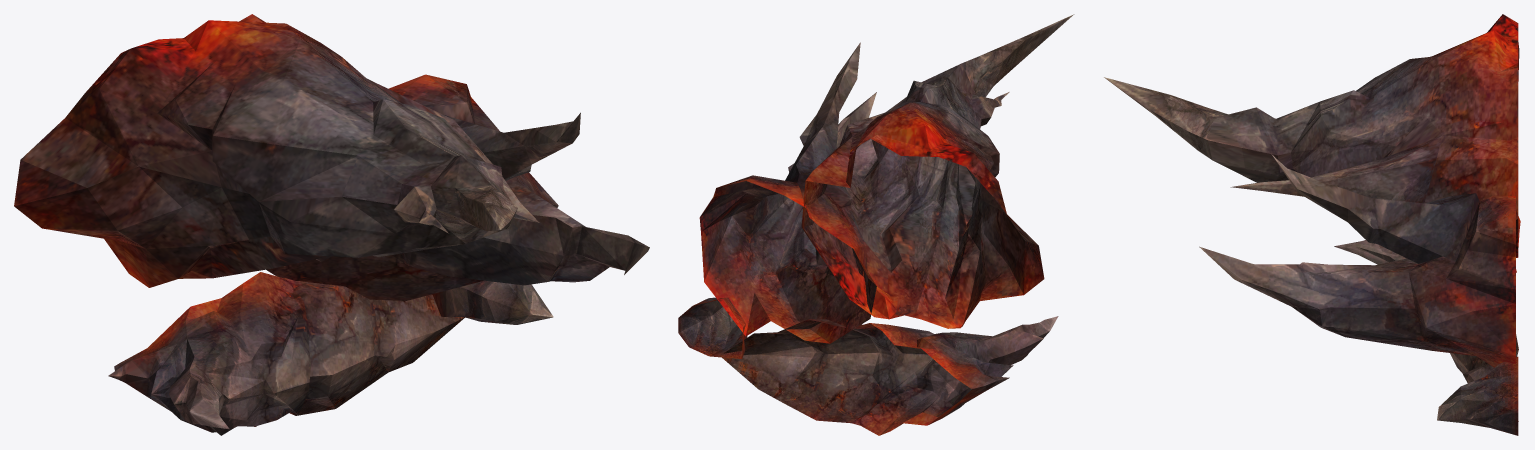
The model's file is huodong_fubei_653_shitou01.obj.
3 renders of one model, left to right at view 1: azimuth 30°, elevation 25°; view 2: azimuth 150°, elevation 25°; view 3: azimuth 270°, elevation 25°, orthographic. The views are drawn at different scales.
Visible parts, largest first — view 1: huodong_fubei_653_shitou01; view 2: huodong_fubei_653_shitou01; view 3: huodong_fubei_653_shitou01.
Boxes of the visible parts, x1,y1,x2,y2 form: huodong_fubei_653_shitou01: (14, 14, 649, 435); huodong_fubei_653_shitou01: (678, 14, 1074, 435); huodong_fubei_653_shitou01: (1104, 14, 1520, 435).
Size of the model in its own units: 409 by 333 by 375.
1 material, 1 textured.
